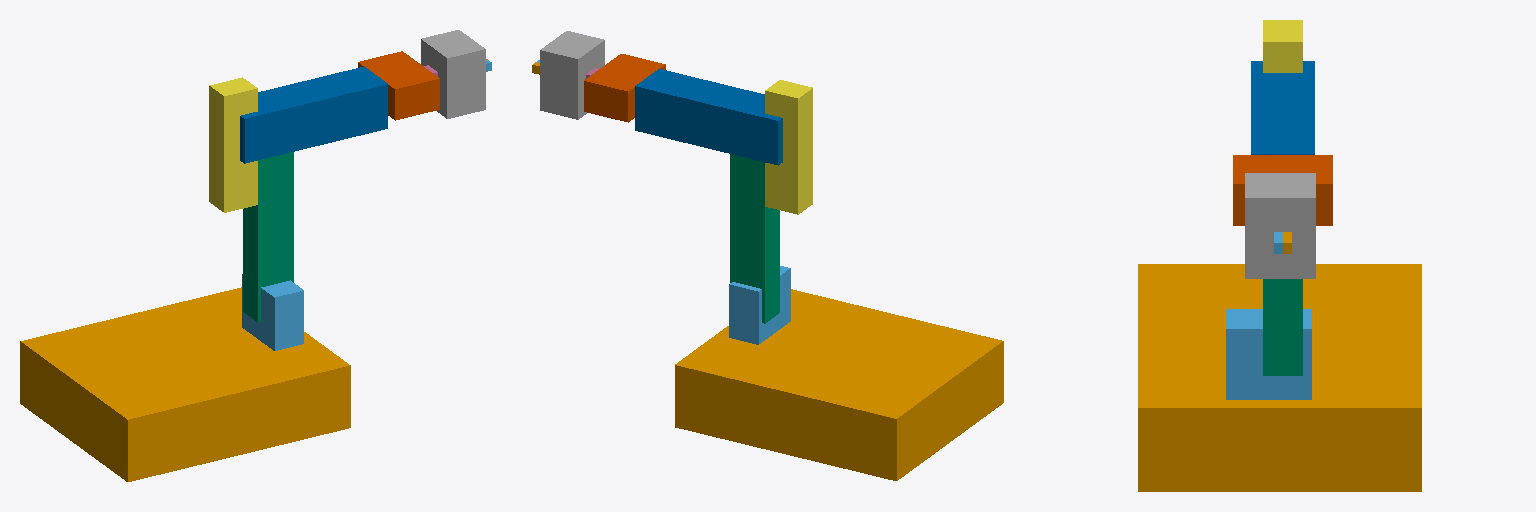
robot.urdf — kerby:
<?xml version="1.0" ?>
<!-- =================================================================================== -->
<!-- |    This document was autogenerated by xacro from kerby.urdf.xacro               | -->
<!-- |    EDITING THIS FILE BY HAND IS NOT RECOMMENDED                                 | -->
<!-- =================================================================================== -->
<robot name="kerby">
  <!-- ======================================================================================================================== -->
  <!-- ==========CONSANTS========== -->
  <!-- base_link is rover -->
  <!-- ======================================================================================================================== -->
  <!-- ==========LINKS========== -->
  <!-- base_link -->
  <link name="base_link">
    <visual>
      <geometry>
        <box size="0.6 0.5 0.16125"/>
      </geometry>
      <origin xyz="0 0 0"/>
    </visual>
    <collision>
      <geometry>
        <box size="0.6 0.5 0.16125"/>
      </geometry>
      <origin xyz="0 0 0"/>
    </collision>
  </link>
  <!-- link1 -->
  <link name="link1">
    <visual>
      <geometry>
        <box size="0.08 0.1505 0.138"/>
      </geometry>
      <origin xyz="0 -0.018750000000000003 0.069"/>
    </visual>
    <collision>
      <geometry>
        <box size="0.08 0.1505 0.138"/>
      </geometry>
      <origin xyz="0 -0.018750000000000003 0.069"/>
    </collision>
  </link>
  <!-- link2 -->
  <link name="link2">
    <visual>
      <geometry>
        <box size="0.096 0.07 0.487225"/>
      </geometry>
      <origin xyz="0 0 0.19561250000000002"/>
    </visual>
    <collision>
      <geometry>
        <box size="0.096 0.07 0.487225"/>
      </geometry>
      <origin xyz="0 0 0.19561250000000002"/>
    </collision>
  </link>
  <!-- motor_j3 -->
  <link name="motor_j3">
    <visual>
      <geometry>
        <box size="0.09 0.07 0.3"/>
      </geometry>
      <origin xyz="-0.084225 0 0.004388"/>
    </visual>
    <collision>
      <geometry>
        <box size="0.09 0.07 0.3"/>
      </geometry>
      <origin xyz="-0.084225 0 0.004388"/>
    </collision>
  </link>
  <!-- link3 -->
  <link name="link3">
    <visual>
      <geometry>
        <box size="0.115 0.112 0.387"/>
      </geometry>
      <origin xyz="-0.037500000000000006 0 0.10650000000000001"/>
    </visual>
    <collision>
      <geometry>
        <box size="0.115 0.112 0.387"/>
      </geometry>
      <origin xyz="-0.037500000000000006 0 0.10650000000000001"/>
    </collision>
  </link>
  <!-- link4 -->
  <link name="link4">
    <visual>
      <geometry>
        <box size="0.08 0.175 0.1208"/>
      </geometry>
      <origin xyz="0 0 0.0604"/>
    </visual>
    <collision>
      <geometry>
        <box size="0.08 0.175 0.1208"/>
      </geometry>
      <origin xyz="0 0 0.0604"/>
    </collision>
  </link>
  <!-- link5 -->
  <link name="link5">
    <visual>
      <geometry>
        <box size="0.045 0.045 0.09455"/>
      </geometry>
      <origin xyz="0 0 0.015474999999999996"/>
    </visual>
    <collision>
      <geometry>
        <box size="0.045 0.045 0.09455"/>
      </geometry>
      <origin xyz="0 0 0.015474999999999996"/>
    </collision>
  </link>
  <!-- gripper_base -->
  <link name="gripper_base">
    <visual>
      <geometry>
        <box size="0.1565 0.125 0.103"/>
      </geometry>
      <origin xyz="0.002250000000000002 -0.004600000000000007 -0.0965"/>
    </visual>
    <collision>
      <geometry>
        <box size="0.1565 0.125 0.103"/>
      </geometry>
      <origin xyz="0.002250000000000002 -0.004600000000000007 -0.0965"/>
    </collision>
  </link>
  <!-- gripper_left_finger -->
  <link name="gripper_left_finger">
    <visual>
      <geometry>
        <box size="0.0215 0.016 0.045"/>
      </geometry>
      <origin xyz="0 0.008 0.0225"/>
    </visual>
    <collision>
      <geometry>
        <box size="0.0215 0.016 0.045"/>
      </geometry>
      <origin xyz="0 0.008 0.0225"/>
    </collision>
  </link>
  <!-- gripper_right_finger -->
  <link name="gripper_right_finger">
    <visual>
      <geometry>
        <box size="0.0215 0.016 0.045"/>
      </geometry>
      <origin xyz="0 -0.008 0.0225"/>
    </visual>
    <collision>
      <geometry>
        <box size="0.0215 0.016 0.045"/>
      </geometry>
      <origin xyz="0 -0.008 0.0225"/>
    </collision>
  </link>
  <!-- ======================================================================================================================== -->
  <!-- ==========JOINTS========== -->
  <!-- joint1 -->
  <joint name="joint1" type="revolute">
    <parent link="base_link"/>
    <child link="link1"/>
    <origin xyz="0.22500000000000003 0 0.080625"/>
    <axis xyz="0 0 1"/>
    <limit effort="10" lower="-2.356194490192345" upper="2.356194490192345" velocity="0.2"/>
  </joint>
  <!-- joint2 -->
  <joint name="joint2" type="revolute">
    <parent link="link1"/>
    <child link="link2"/>
    <origin xyz="0 0.004749999999999997 0.098"/>
    <axis xyz="0 1 0"/>
    <limit effort="10" lower="-1.34" upper="2.07" velocity="0.2"/>
  </joint>
  <!-- motor_j3_joint -->
  <joint name="motor_j3_joint" type="fixed">
    <parent link="link2"/>
    <child link="motor_j3"/>
    <origin xyz="-0.008774999999999998 0 0.4"/>
    <axis xyz="1 0 0"/>
    <limit effort="1" lower="-3.141592653589793" upper="3.141592653589793" velocity="0.2"/>
  </joint>
  <!-- joint3 -->
  <joint name="joint3" type="revolute">
    <parent link="link2"/>
    <child link="link3"/>
    <origin rpy="0 1.5707963267948966 0" xyz="-0.008774999999999998 0 0.4"/>
    <axis xyz="0 1 0"/>
    <limit effort="10" lower="-1.1" upper="1.3" velocity="0.2"/>
  </joint>
  <!-- joint4 -->
  <joint name="joint4" type="revolute">
    <parent link="link3"/>
    <child link="link4"/>
    <origin xyz="-0.053500000000000006 0 0.30000000000000004"/>
    <axis xyz="0 0 1"/>
    <limit effort="10" lower="-1.5707963267948966" upper="1.5707963267948966" velocity="0.2"/>
  </joint>
  <!-- joint5 -->
  <joint name="joint5" type="revolute">
    <parent link="link4"/>
    <child link="link5"/>
    <origin xyz="0 0 0.0898"/>
    <axis xyz="0 1 0"/>
    <limit effort="10" lower="-2.8" upper="2.3" velocity="0.2"/>
  </joint>
  <!-- joint6 -->
  <joint name="joint6" type="revolute">
    <parent link="link5"/>
    <child link="gripper_base"/>
    <origin xyz="0 0 0.21075"/>
    <axis xyz="0 0 1"/>
    <limit effort="10" lower="-4.2" upper="3.8" velocity="0.2"/>
  </joint>
  <!-- gripper_left_finger_joint -->
  <joint name="gripper_left_finger_joint" type="prismatic">
    <parent link="gripper_base"/>
    <child link="gripper_left_finger"/>
    <origin xyz="0.0 0.0 -0.045000000000000005"/>
    <axis xyz="0 1 0"/>
    <limit effort="1" lower="0" upper="0.04" velocity="0.5"/>
  </joint>
  <!-- gripper_right_finger_joint -->
  <joint name="gripper_right_finger_joint" type="prismatic">
    <parent link="gripper_base"/>
    <child link="gripper_right_finger"/>
    <origin xyz="0.0 0.0 -0.045000000000000005"/>
    <axis xyz="0 1 0"/>
    <limit effort="1" lower="0" upper="0.1" velocity="0.5"/>
    <mimic joint="gripper_left_finger_joint" multiplier="-1" offset="0"/>
  </joint>
</robot>

--- Render facts (derived) ---
3 views of the same robot in one strip: view 1: azimuth 30°, elevation 25°; view 2: azimuth 150°, elevation 25°; view 3: azimuth 270°, elevation 25° (orthographic).
Model kerby with 10 links and 9 joints (6 revolute, 2 prismatic, 1 fixed), rooted at base_link, posed all joints at 0.
Visible links, largest first — view 1: base_link, link3, link2, motor_j3, gripper_base, link4, link1; view 2: base_link, link3, link2, motor_j3, gripper_base, link4, link1; view 3: base_link, gripper_base, link3, link1, link2, link4, motor_j3.
Link boxes in pixels (left/top/right/bottom): base_link: left=20, top=287, right=350, bottom=481; link3: left=240, top=66, right=387, bottom=163; link2: left=243, top=152, right=293, bottom=321; motor_j3: left=209, top=77, right=257, bottom=212; gripper_base: left=421, top=30, right=485, bottom=118; link4: left=358, top=51, right=439, bottom=120; link1: left=242, top=274, right=303, bottom=350; base_link: left=675, top=289, right=1003, bottom=480; link3: left=635, top=69, right=782, bottom=165; link2: left=730, top=154, right=779, bottom=323; motor_j3: left=765, top=80, right=812, bottom=214; gripper_base: left=540, top=31, right=604, bottom=119; link4: left=584, top=54, right=665, bottom=122; link1: left=729, top=266, right=790, bottom=344; base_link: left=1138, top=264, right=1421, bottom=491; gripper_base: left=1245, top=173, right=1315, bottom=278; link3: left=1251, top=61, right=1314, bottom=154; link1: left=1226, top=309, right=1311, bottom=399; link2: left=1263, top=279, right=1302, bottom=375; link4: left=1233, top=155, right=1332, bottom=225; motor_j3: left=1263, top=20, right=1302, bottom=72.
Bounding box of the posed robot: 1.12 × 0.5 × 0.8136 m (x, y, z).
Geometry: primitives only (box / cylinder / sphere), no mesh files.
